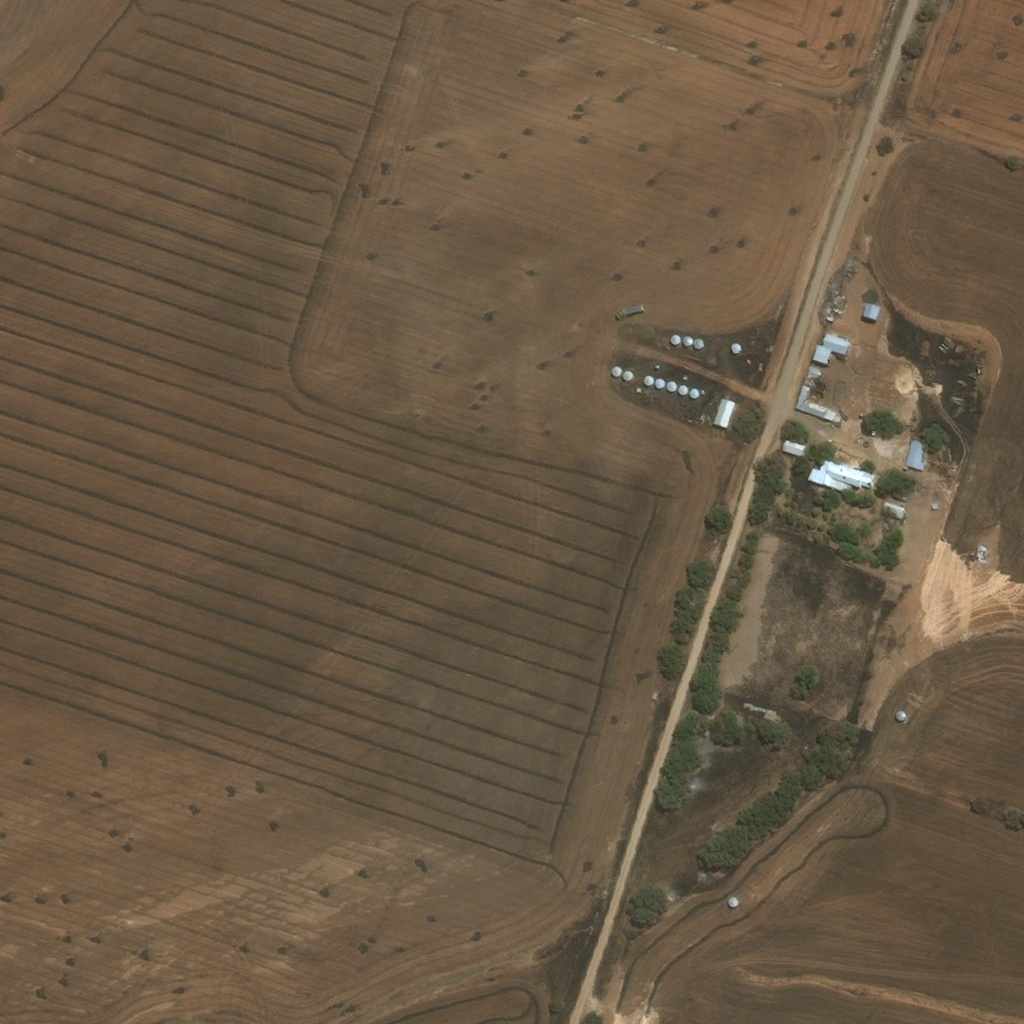0 no-damage: (793, 362, 844, 423), (807, 457, 874, 490), (811, 331, 851, 362), (712, 396, 737, 427), (903, 438, 926, 470), (881, 500, 905, 519), (781, 437, 806, 455), (862, 299, 881, 318), (891, 489, 908, 500), (670, 332, 682, 343), (707, 350, 718, 362), (731, 340, 742, 352), (902, 697, 913, 708), (644, 373, 655, 384), (655, 376, 666, 387), (612, 363, 622, 374), (623, 368, 633, 379), (689, 386, 699, 397), (683, 334, 693, 345), (668, 378, 677, 390), (709, 905, 719, 915), (678, 383, 688, 393), (694, 336, 704, 346), (825, 312, 835, 319), (931, 500, 938, 509)
